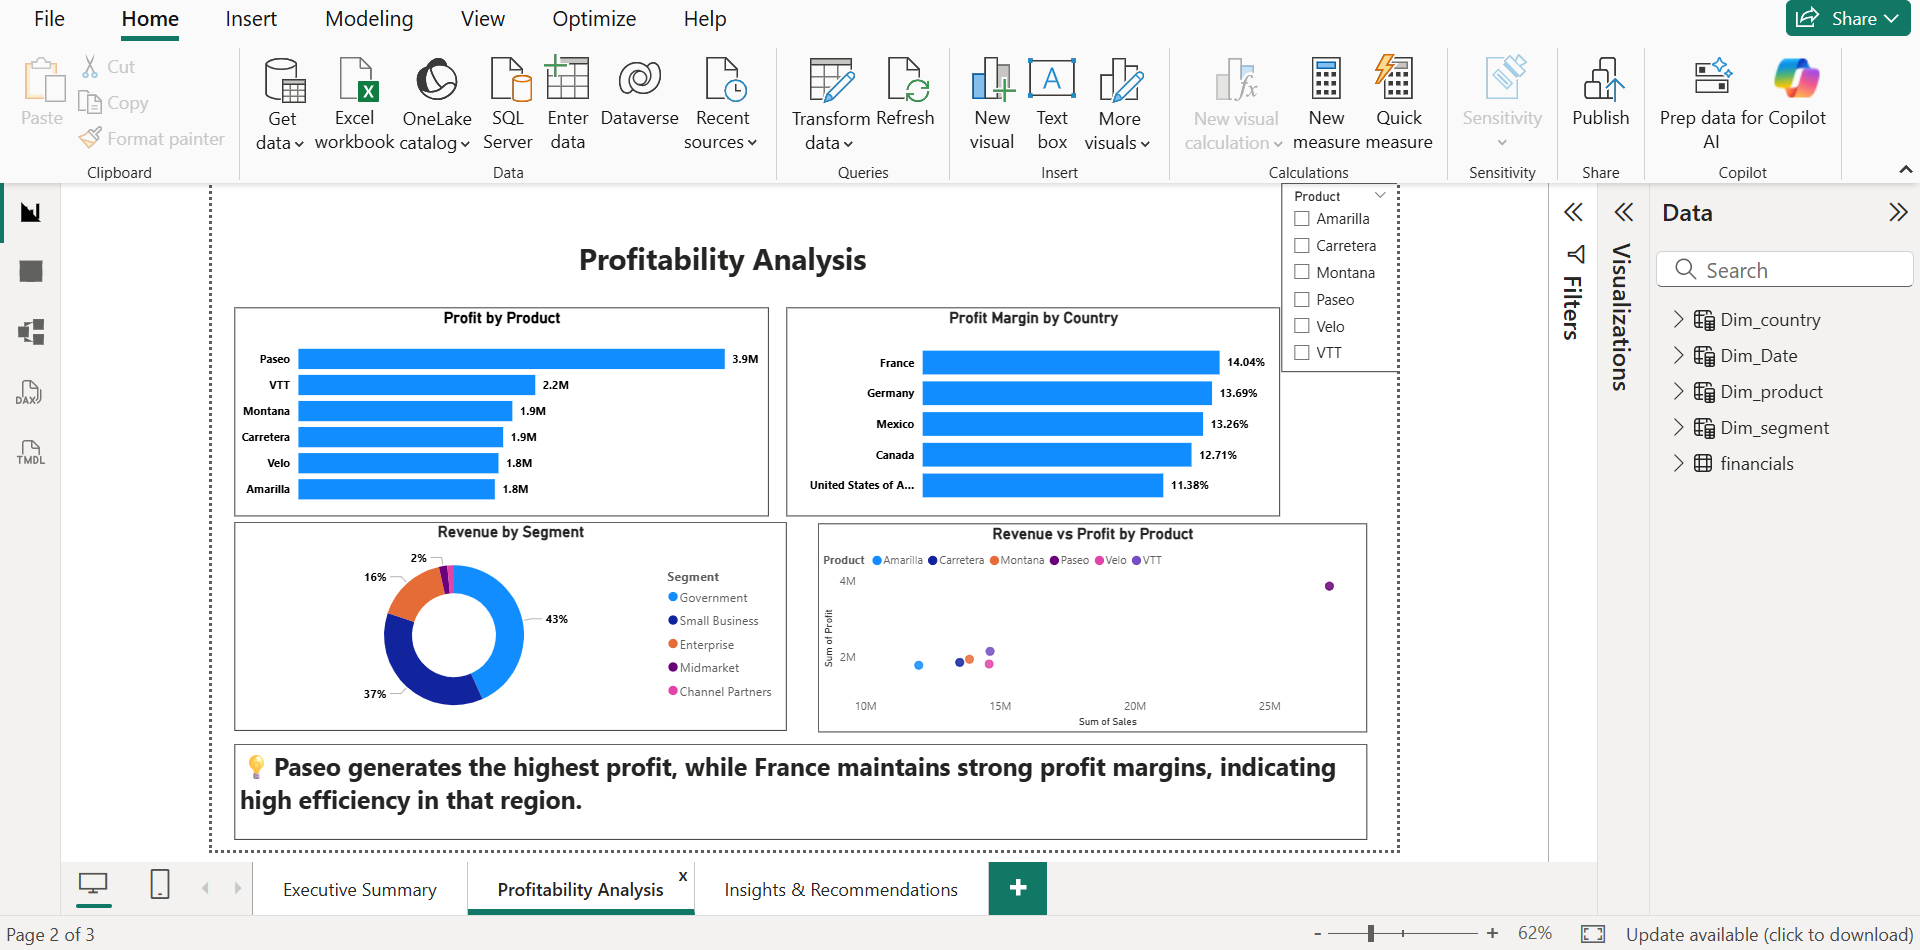

This screenshot's page, from the dashboard's own definition file:
{"tool":"powerbi","page":{"name":"Profitability Analysis","canvas":[1280,720],"ordinal":1},"visuals":[{"type":"clusteredBarChart","title":"Profit by Product","fields":{"Category":["Dim_product.Product"],"Y":["Dim_Date.Total Profit"]},"box":[24.3,134.4,576.4,225.1],"z":0},{"type":"clusteredBarChart","title":"Profit Margin by Country","fields":{"Category":["Dim_country.Country"],"Y":["Dim_Date.Profit Margin by Country"]},"box":[620.2,134.4,532.7,225.1],"z":1},{"type":"donutChart","title":"Revenue by Segment","fields":{"Category":["Dim_segment.Segment"],"Y":["Dim_Date.Total Revenue"]},"box":[24.3,365.9,595.9,225.1],"z":2},{"type":"scatterChart","title":"Revenue vs Profit by Product","fields":{"X":["Sum(financials. Sales)"],"Y":["Sum(financials.Profit)"],"Series":["financials.Product"]},"box":[654.2,367.6,592.6,225.1],"z":3},{"type":"textbox","box":[24.3,53.4,947.2,63.1],"z":5},{"type":"textbox","box":[24.3,605.6,1222.5,103.6],"z":6},{"type":"slicer","fields":{"Values":["Dim_product.Product"]},"box":[1154.5,0,126.3,204],"z":7}]}

Visuals, with their boxes on the page's 1280x720 design canvas (x1, y1, x2, y2). These are canvas units, not pixel positions in the 1920x950 screenshot, which may show the page scaled, cropped or inside an application window:
"Profit by Product" clusteredBarChart: box=[24, 134, 601, 360]
"Profit Margin by Country" clusteredBarChart: box=[620, 134, 1153, 360]
"Revenue by Segment" donutChart: box=[24, 366, 620, 591]
"Revenue vs Profit by Product" scatterChart: box=[654, 368, 1247, 593]
textbox: box=[24, 53, 972, 116]
textbox: box=[24, 606, 1247, 709]
slicer - Dim_product.Product: box=[1154, 0, 1281, 204]
